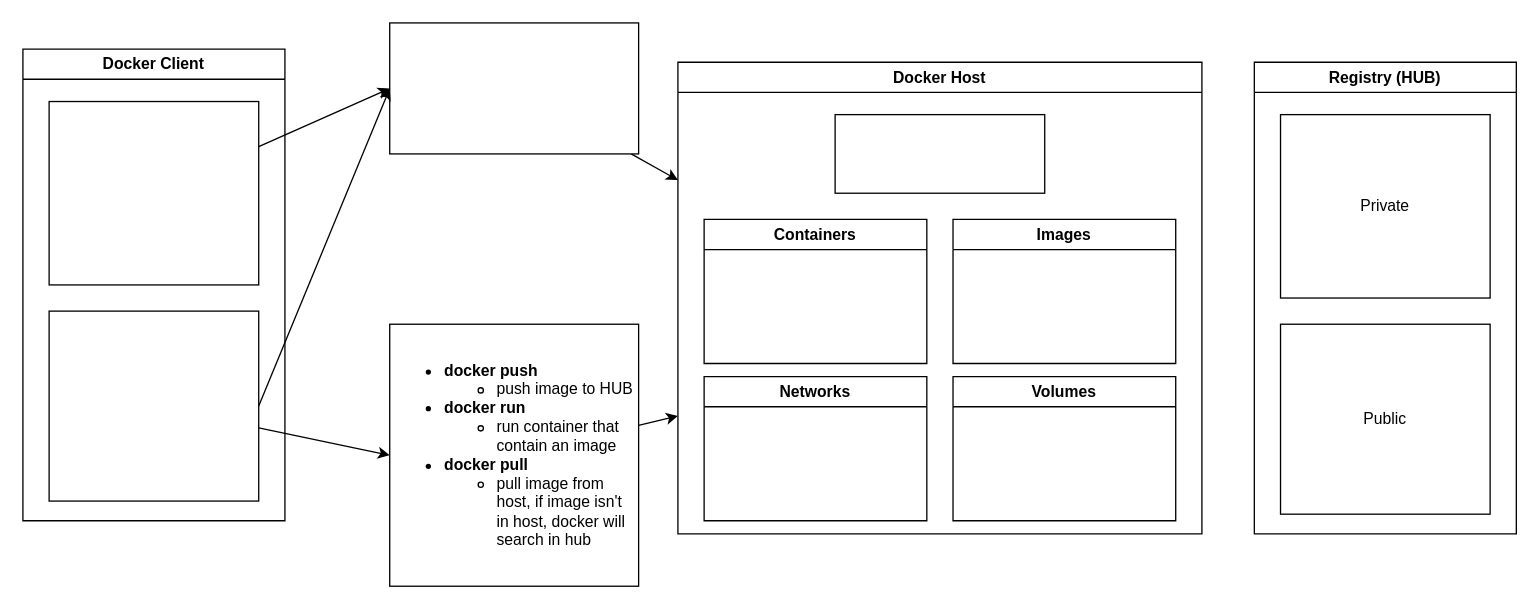
This 1539x609 diagram has some shape labels left out. The centre of each missing label's shape, as x and y in pixels:
"Docker (CMD)" belongs at (x=153, y=405).
"docker build build an image from dockerfile" belongs at (x=513, y=88).
"Docker Daemon" belongs at (x=939, y=153).
"Docker Desktop" belongs at (x=153, y=192).
